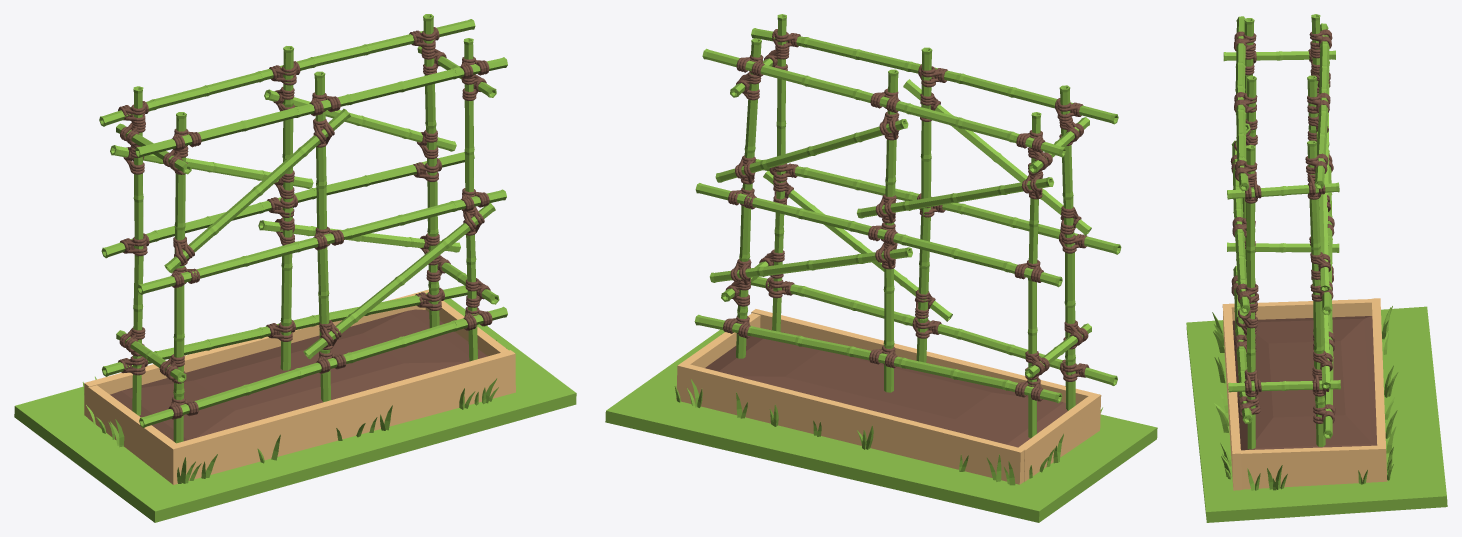
Rendered from Bamboo Garden Scaffolding.glb.
The picture shows the model from 3 angles, left to right: view 1: azimuth 30°, elevation 25°; view 2: azimuth 150°, elevation 25°; view 3: azimuth 270°, elevation 25°; orthographic projection. The views are drawn at different scales.
Visible parts, largest first — view 1: group1288712651, group356612685, group1572893599, group1172953821, group1967808197, group823337145, group1433664718, group1647325469, group505902708, group1630393322; view 2: group1288712651, group356612685, group1172953821, group1572893599, group1967808197, group1630393322, group1647325469, group505902708, group823337145, group1433664718; view 3: group1288712651, group356612685, group1572893599, group1172953821, group1967808197, group1016361345, group1376809069, group1647325469, group1630393322, group1254156086, group1180474031, group297574909.
Boxes of the visible parts, x1=… form: group1288712651: x1=84, y1=289, x2=515, y2=484; group356612685: x1=14, y1=290, x2=576, y2=522; group1572893599: x1=135, y1=38, x2=507, y2=443; group1172953821: x1=99, y1=14, x2=475, y2=415; group1967808197: x1=116, y1=122, x2=191, y2=383; group823337145: x1=164, y1=108, x2=350, y2=273; group1433664718: x1=303, y1=203, x2=495, y2=359; group1647325469: x1=264, y1=89, x2=456, y2=151; group505902708: x1=110, y1=145, x2=313, y2=188; group1630393322: x1=258, y1=220, x2=460, y2=252; group1288712651: x1=676, y1=309, x2=1101, y2=484; group356612685: x1=605, y1=329, x2=1157, y2=522; group1172953821: x1=694, y1=38, x2=1066, y2=438; group1572893599: x1=751, y1=14, x2=1121, y2=410; group1967808197: x1=1025, y1=117, x2=1091, y2=379; group1630393322: x1=709, y1=247, x2=912, y2=282; group1647325469: x1=715, y1=119, x2=908, y2=182; group505902708: x1=857, y1=177, x2=1053, y2=218; group823337145: x1=903, y1=79, x2=1091, y2=235; group1433664718: x1=763, y1=171, x2=952, y2=321; group1288712651: x1=1222, y1=298, x2=1387, y2=490; group356612685: x1=1186, y1=306, x2=1447, y2=522; group1572893599: x1=1230, y1=16, x2=1260, y2=449; group1172953821: x1=1305, y1=14, x2=1335, y2=446; group1967808197: x1=1223, y1=48, x2=1339, y2=252; group1016361345: x1=1227, y1=182, x2=1339, y2=199; group1376809069: x1=1228, y1=380, x2=1340, y2=392; group1647325469: x1=1316, y1=113, x2=1329, y2=291; group1630393322: x1=1321, y1=313, x2=1330, y2=389; group1254156086: x1=1244, y1=369, x2=1261, y2=396; group1180474031: x1=1310, y1=252, x2=1331, y2=279; group297574909: x1=1312, y1=351, x2=1332, y2=378.
Size of the model in its own units: 6.32 by 5.14 by 3.51.
